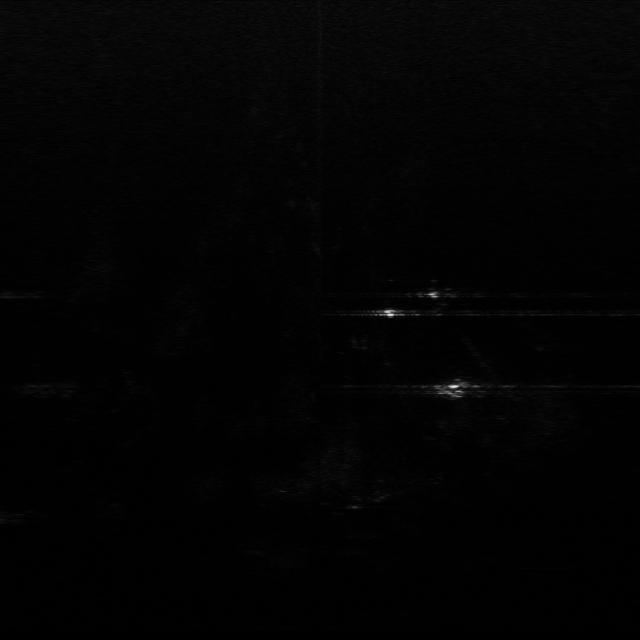rov: (432, 380, 484, 400)
